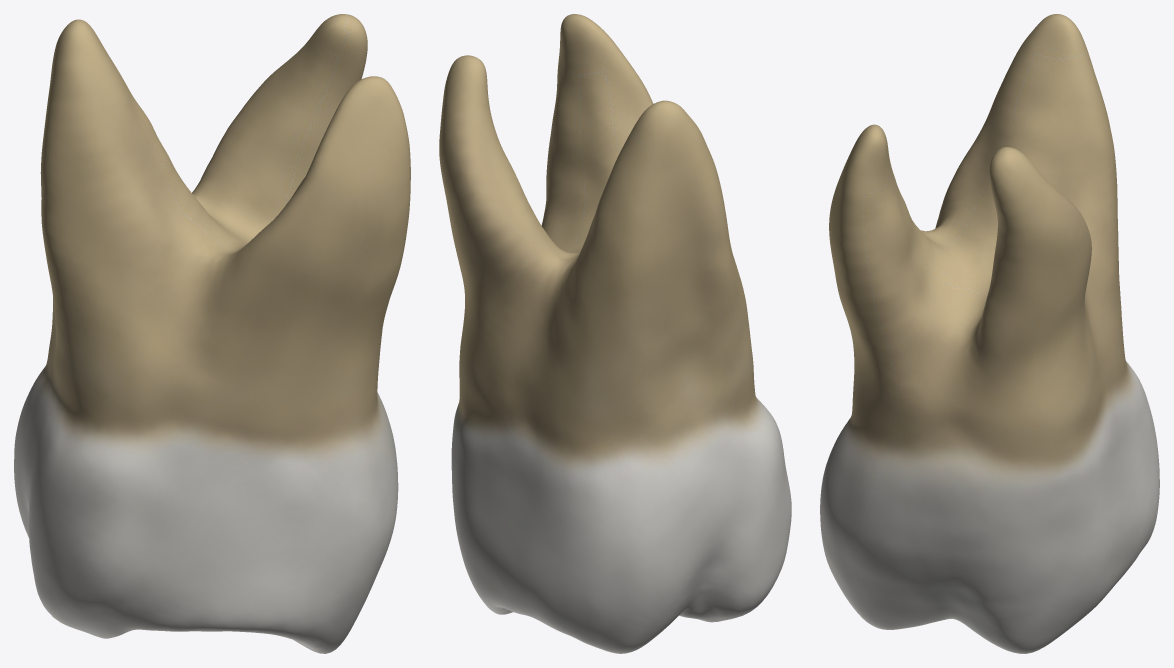
Rendered from molar.glb.
3 views of the same model, side by side, from view 1: azimuth 30°, elevation 25°; view 2: azimuth 150°, elevation 25°; view 3: azimuth 270°, elevation 25° (orthographic). The views are drawn at different scales.
Parts seen in each view (by area): view 1: Object_2; view 2: Object_2; view 3: Object_2.
Part boxes in pixels (x1,y1,x2,y2): Object_2: (14, 14, 410, 653); Object_2: (439, 14, 791, 653); Object_2: (820, 14, 1159, 653).
Size of the model in its own units: 0.4533 by 0.7784 by 0.4332.
1 material, 1 textured.
